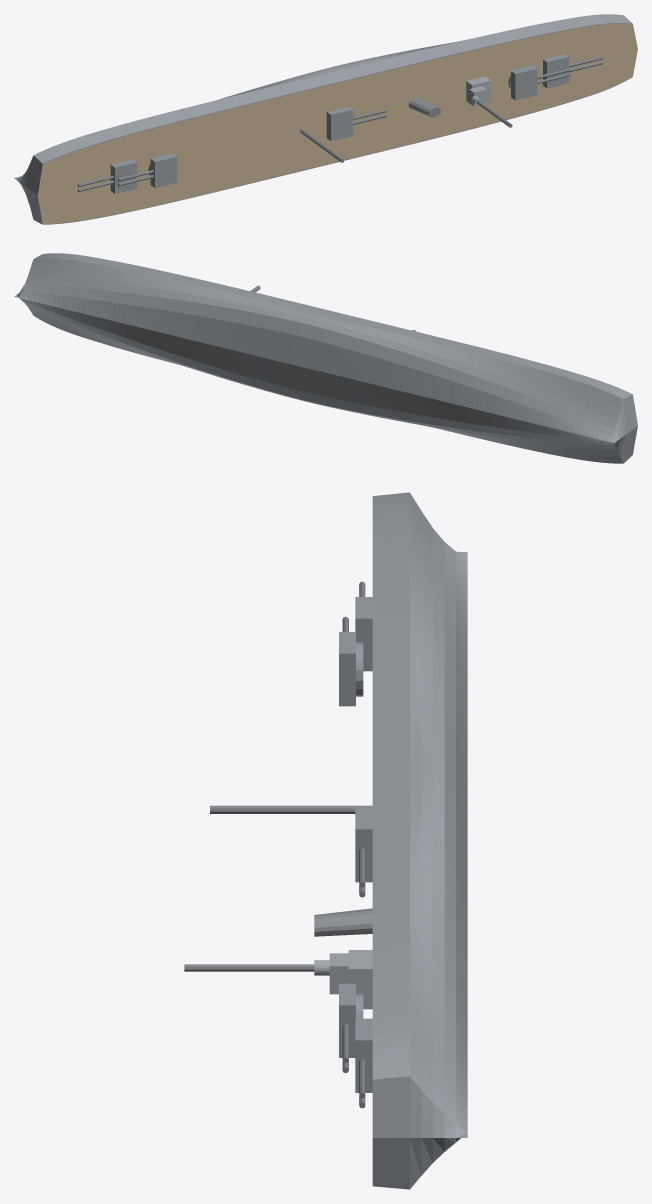
3 views of the same model, one above another, from view 1: azimuth 30°, elevation 25°; view 2: azimuth 150°, elevation 25°; view 3: azimuth 270°, elevation 25° (orthographic). The views are drawn at different scales.
Visible parts, largest first — view 1: A127; view 2: A127; view 3: A127.
Boxes of the visible parts, x1,y1,x2,y2 form: A127: (14, 14, 637, 224); A127: (14, 253, 637, 463); A127: (184, 492, 467, 1189).
Size of the model in its own units: 229 by 31.01 by 46.72.
